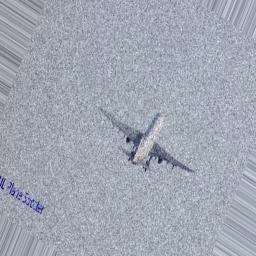Airplane: (98, 107, 196, 176)
